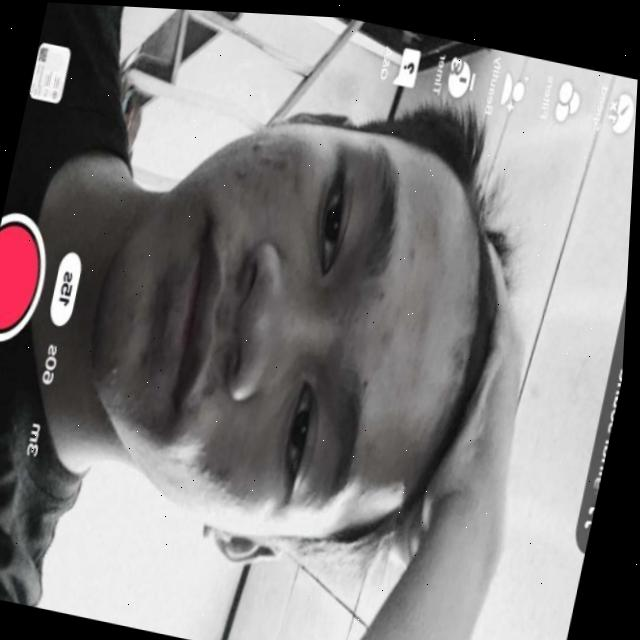Acne: (355, 234, 504, 434), (95, 280, 168, 409), (209, 114, 305, 209), (184, 451, 248, 507)
